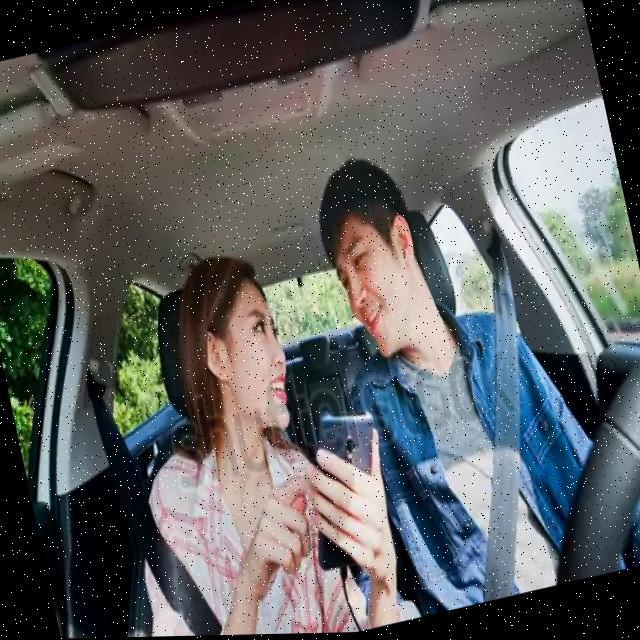PhoneCall: (287, 404, 402, 580)
